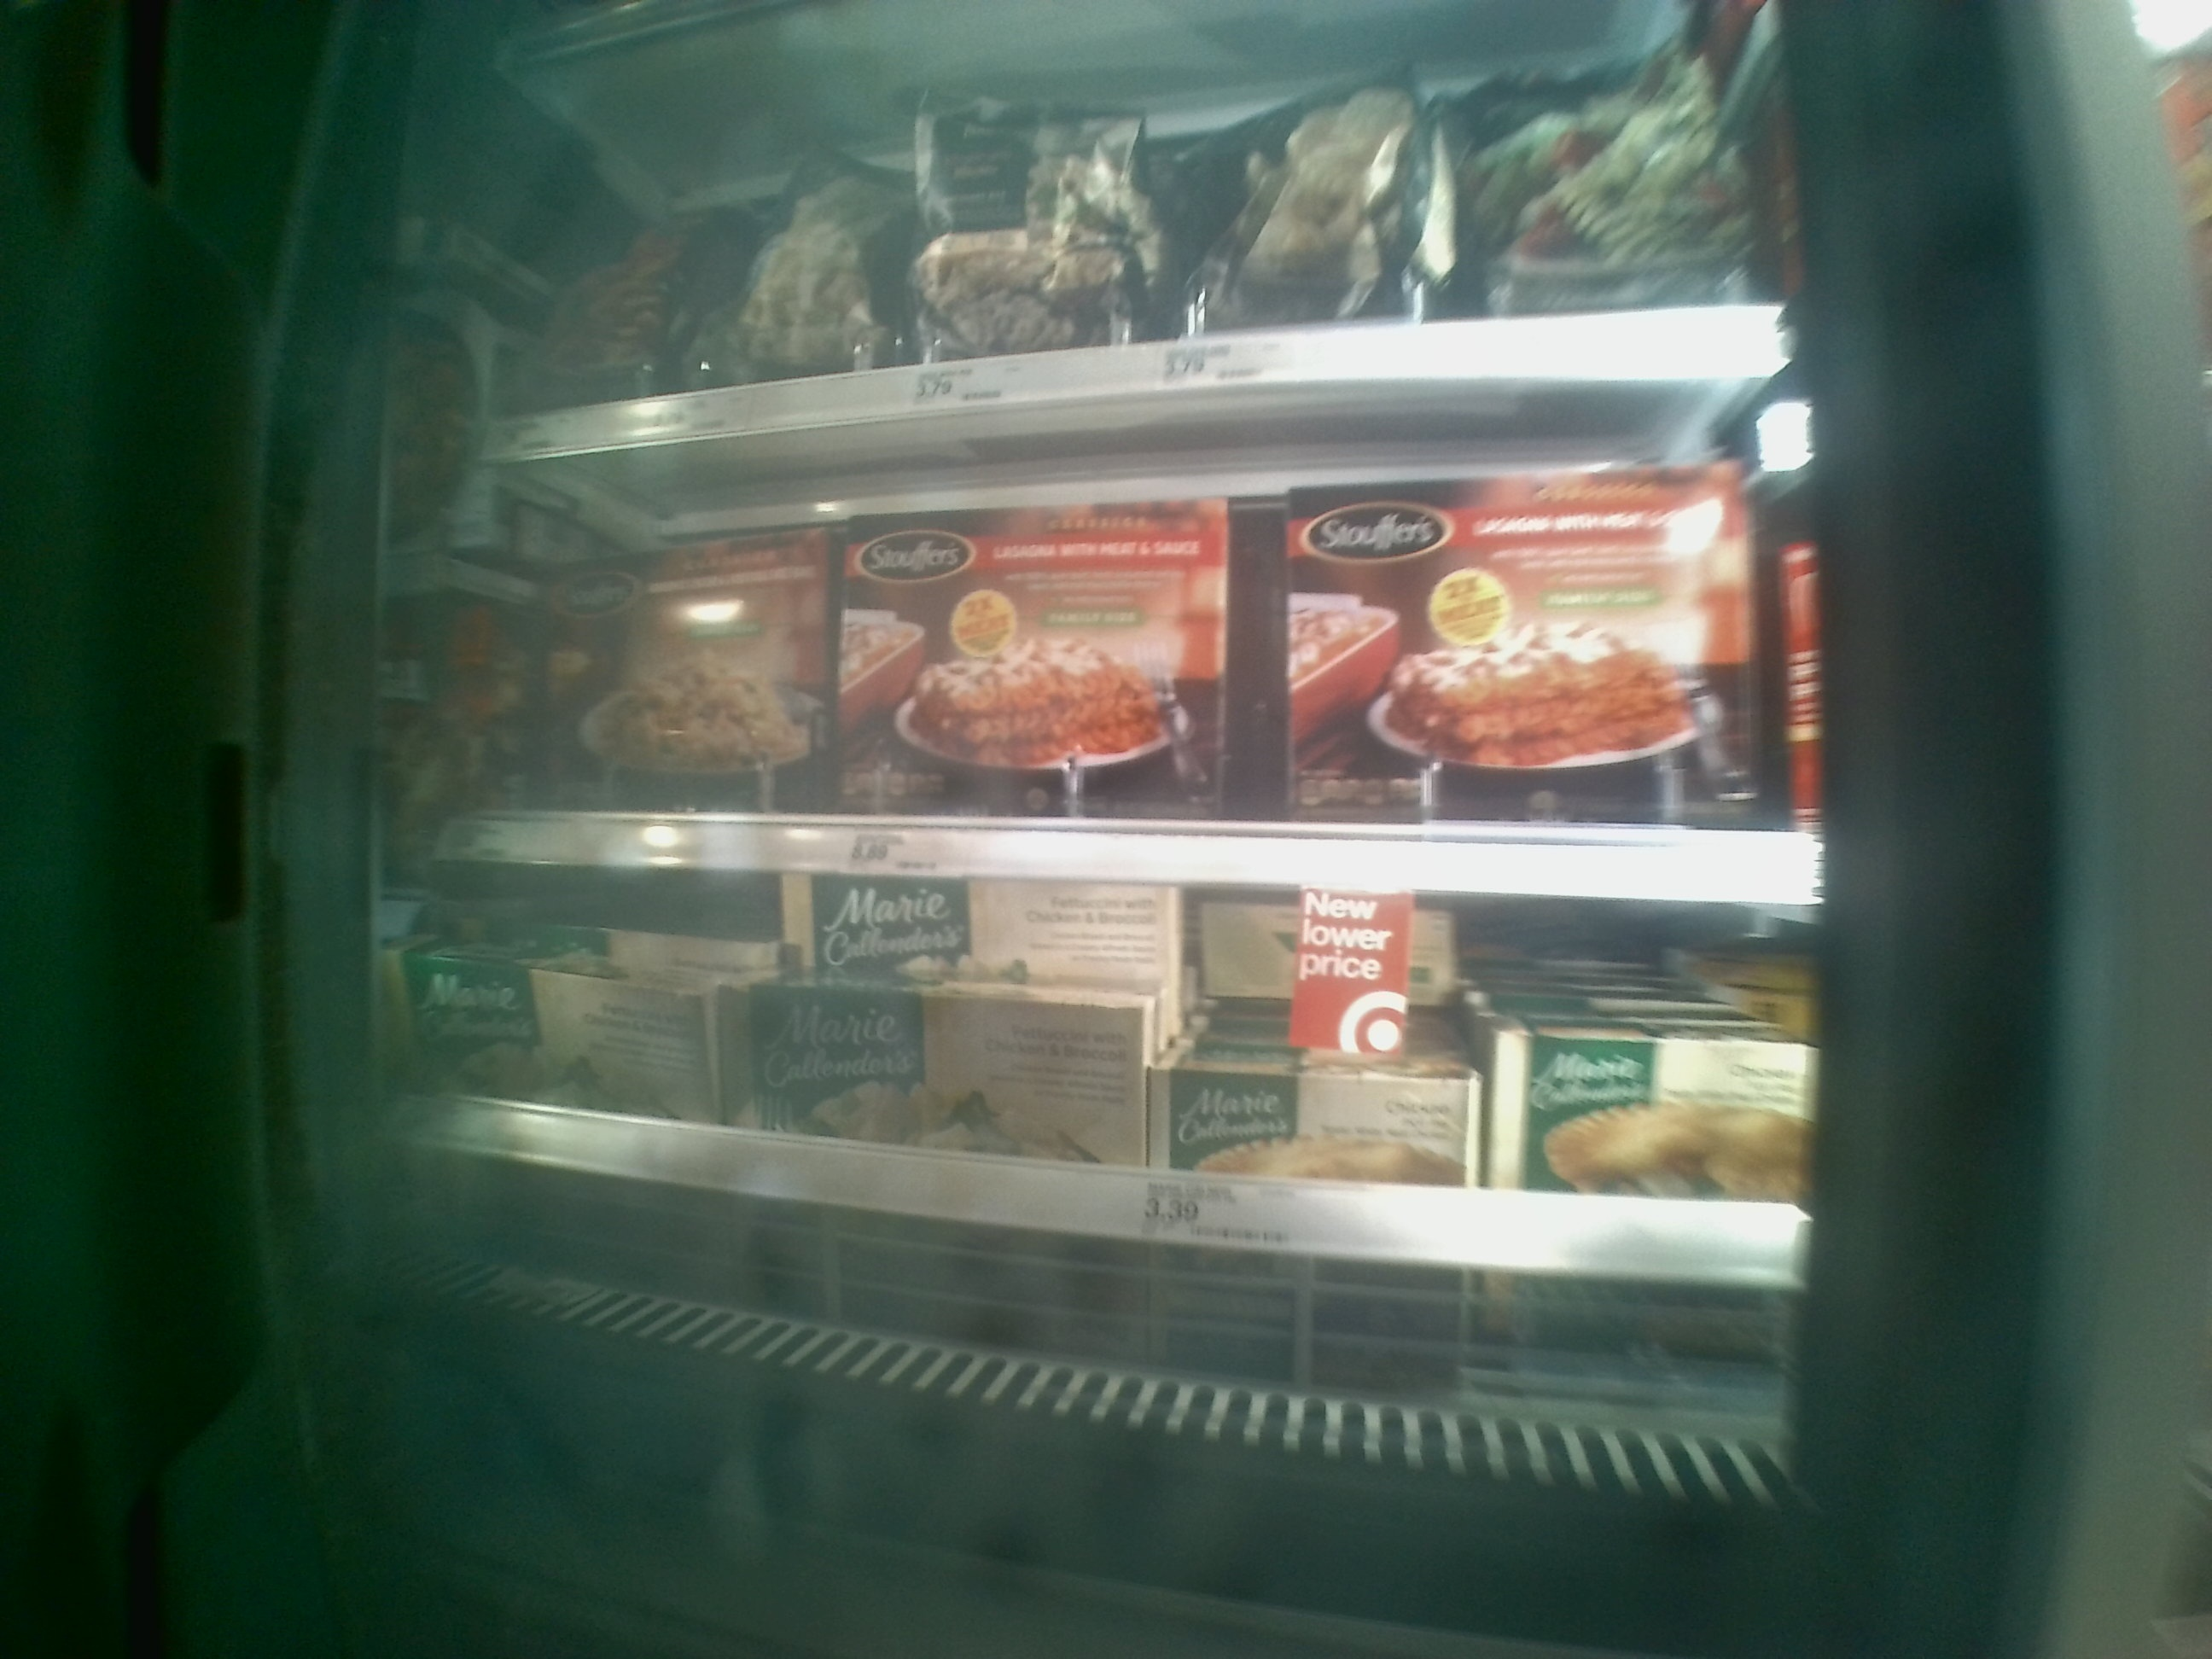shelf: (435, 460, 1817, 897), (432, 885, 1803, 1276), (458, 87, 1768, 451)
